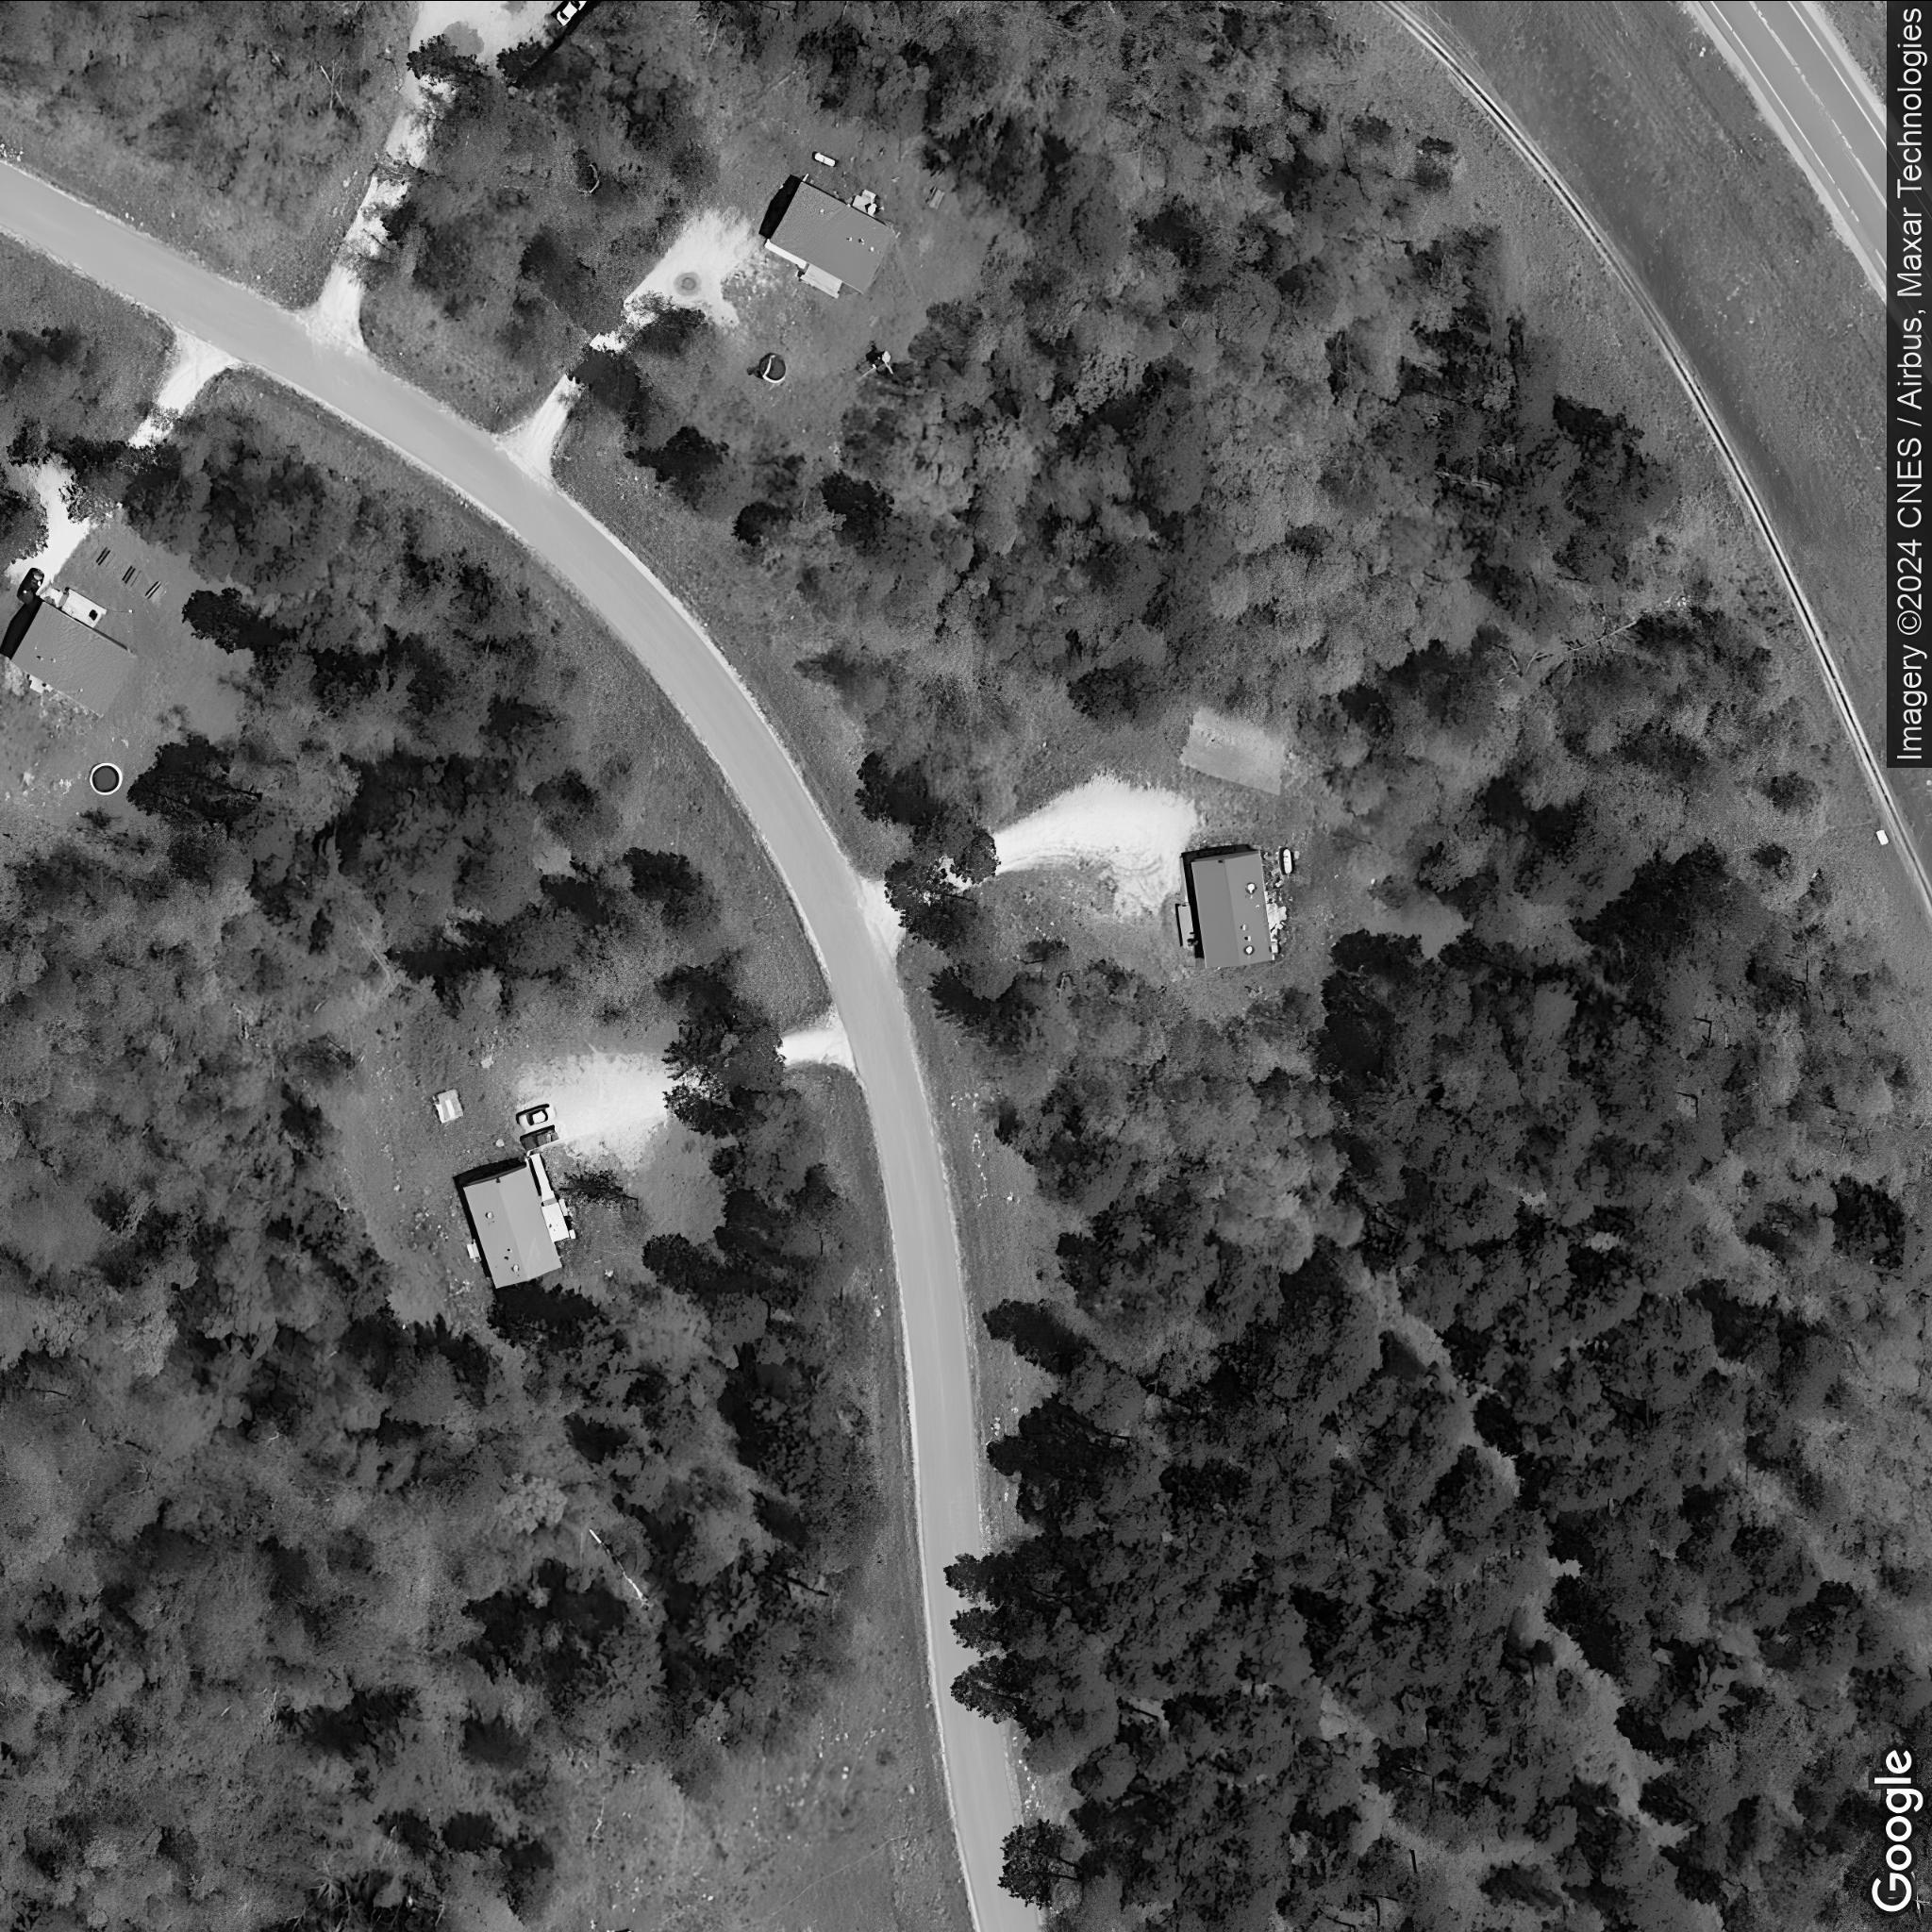House: (7, 594, 142, 718), (766, 177, 899, 295), (460, 1161, 564, 1288), (1187, 846, 1276, 970)
Propane: (810, 145, 842, 170), (1276, 846, 1297, 876)
